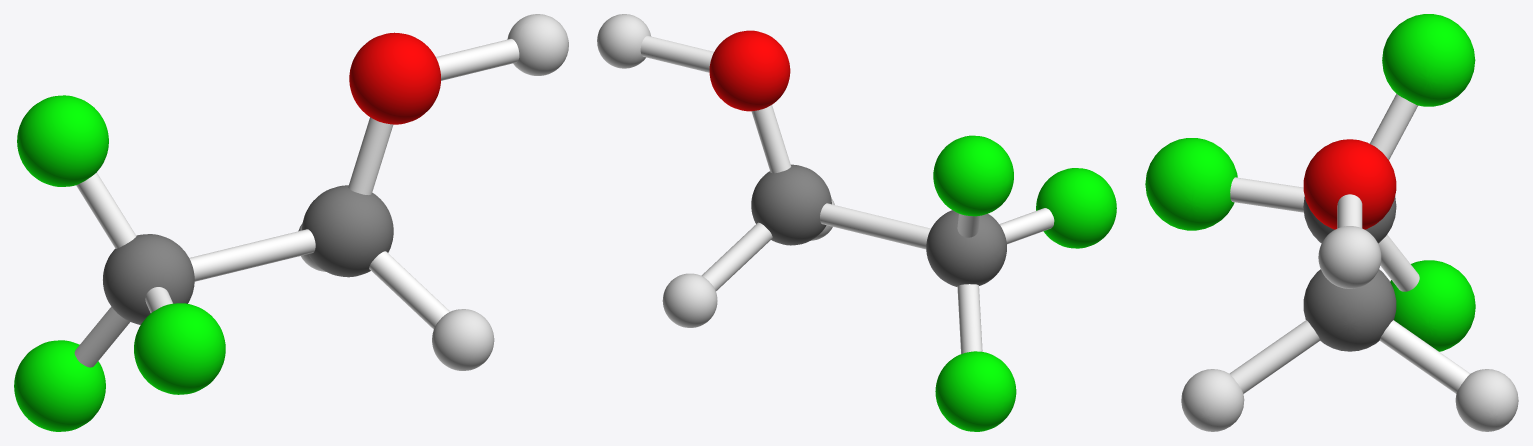
File: Trifluoroethanol.dae
3 views of the same model, side by side, from view 1: azimuth 30°, elevation 25°; view 2: azimuth 150°, elevation 25°; view 3: azimuth 270°, elevation 25° (orthographic). The views are drawn at different scales.
Visible parts, largest first — view 1: Trifluoroethanol_pSphere12, Trifluoroethanol_pSphere10, Trifluoroethanol_pSphere13, Trifluoroethanol_pSphere11, Trifluoroethanol_pSphere1, pSphere6_Trifluoroethanol, Trifluoroethanol_pCylinder6, Trifluoroethanol_pSphere3, Trifluoroethanol_pSphere2, Trifluoroethanol_pCylinder7, Trifluoroethanol_pCylinder12, Trifluoroethanol_pCylinder11 (+2 smaller); view 2: Trifluoroethanol_pSphere10, Trifluoroethanol_pSphere11, Trifluoroethanol_pSphere13, Trifluoroethanol_pSphere12, Trifluoroethanol_pSphere1, pSphere6_Trifluoroethanol, Trifluoroethanol_pCylinder6, Trifluoroethanol_pSphere4, Trifluoroethanol_pSphere2, Trifluoroethanol_pCylinder8, Trifluoroethanol_pCylinder12, Trifluoroethanol_pCylinder10 (+2 smaller); view 3: Trifluoroethanol_pSphere13, Trifluoroethanol_pSphere12, Trifluoroethanol_pSphere10, Trifluoroethanol_pSphere1, Trifluoroethanol_pSphere11, Trifluoroethanol_pSphere2, Trifluoroethanol_pSphere3, Trifluoroethanol_pSphere4, Trifluoroethanol_pCylinder8, Trifluoroethanol_pCylinder7, Trifluoroethanol_pCylinder9, Trifluoroethanol_pCylinder11 (+3 smaller).
Part boxes in pixels (box(x1,y1,x2,y2)): Trifluoroethanol_pSphere12: box(134, 303, 225, 394); Trifluoroethanol_pSphere10: box(349, 32, 440, 124); Trifluoroethanol_pSphere13: box(17, 95, 108, 186); Trifluoroethanol_pSphere11: box(14, 340, 105, 431); Trifluoroethanol_pSphere1: box(302, 185, 393, 277); pSphere6_Trifluoroethanol: box(103, 234, 194, 324); Trifluoroethanol_pCylinder6: box(189, 229, 315, 281); Trifluoroethanol_pSphere3: box(432, 309, 494, 370); Trifluoroethanol_pSphere2: box(507, 14, 568, 75); Trifluoroethanol_pCylinder7: box(369, 251, 449, 329); Trifluoroethanol_pCylinder12: box(436, 39, 519, 80); Trifluoroethanol_pCylinder11: box(76, 172, 136, 248); Trifluoroethanol_pSphere10: box(709, 30, 790, 111); Trifluoroethanol_pSphere11: box(935, 351, 1016, 431); Trifluoroethanol_pSphere13: box(933, 135, 1013, 216); Trifluoroethanol_pSphere12: box(1036, 168, 1116, 248); Trifluoroethanol_pSphere1: box(751, 164, 831, 245); pSphere6_Trifluoroethanol: box(926, 210, 1006, 286); Trifluoroethanol_pCylinder6: box(820, 203, 930, 249); Trifluoroethanol_pSphere4: box(662, 273, 717, 327); Trifluoroethanol_pSphere2: box(597, 14, 651, 68); Trifluoroethanol_pCylinder8: box(701, 222, 772, 290); Trifluoroethanol_pCylinder12: box(640, 36, 713, 72); Trifluoroethanol_pCylinder10: box(957, 284, 982, 353); Trifluoroethanol_pSphere13: box(1382, 14, 1475, 106); Trifluoroethanol_pSphere12: box(1145, 138, 1237, 230); Trifluoroethanol_pSphere10: box(1303, 139, 1396, 229); Trifluoroethanol_pSphere1: box(1303, 269, 1396, 351); Trifluoroethanol_pSphere11: box(1390, 260, 1475, 351); Trifluoroethanol_pSphere2: box(1318, 226, 1381, 288); Trifluoroethanol_pSphere3: box(1181, 369, 1244, 431); Trifluoroethanol_pSphere4: box(1455, 369, 1518, 431); Trifluoroethanol_pCylinder8: box(1379, 320, 1470, 393); Trifluoroethanol_pCylinder7: box(1229, 320, 1320, 393); Trifluoroethanol_pCylinder9: box(1230, 177, 1304, 212); Trifluoroethanol_pCylinder11: box(1369, 94, 1417, 159).
Bounding box in the file's own units: 1.72 × 1.09 × 1.13.
